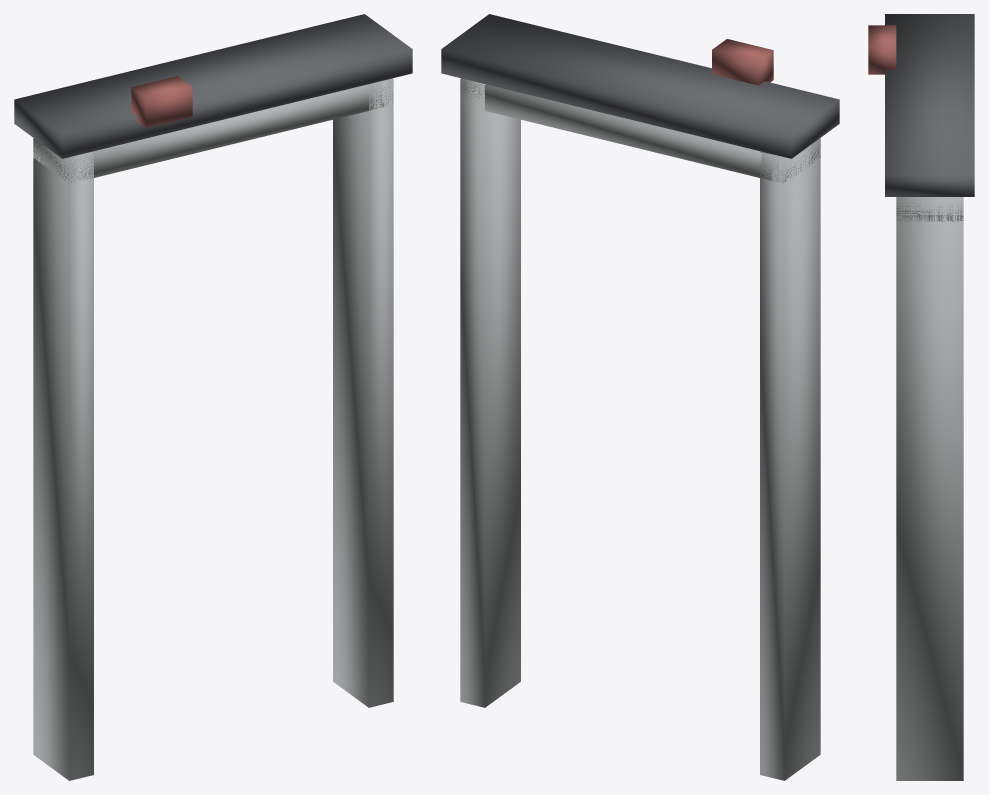
File: doorway_fire_rated_w106_h220_d24.glb
3 renders of one model, left to right at view 1: azimuth 30°, elevation 25°; view 2: azimuth 150°, elevation 25°; view 3: azimuth 270°, elevation 25°, orthographic. The views are drawn at different scales.
Visible parts, largest first — view 1: world; view 2: world; view 3: world.
Boxes of the visible parts, bbox=[...] form: world: bbox=[14, 14, 412, 780]; world: bbox=[441, 14, 839, 780]; world: bbox=[868, 14, 974, 780].
Size of the model in its own units: 1.35 by 2.5 by 0.38.
